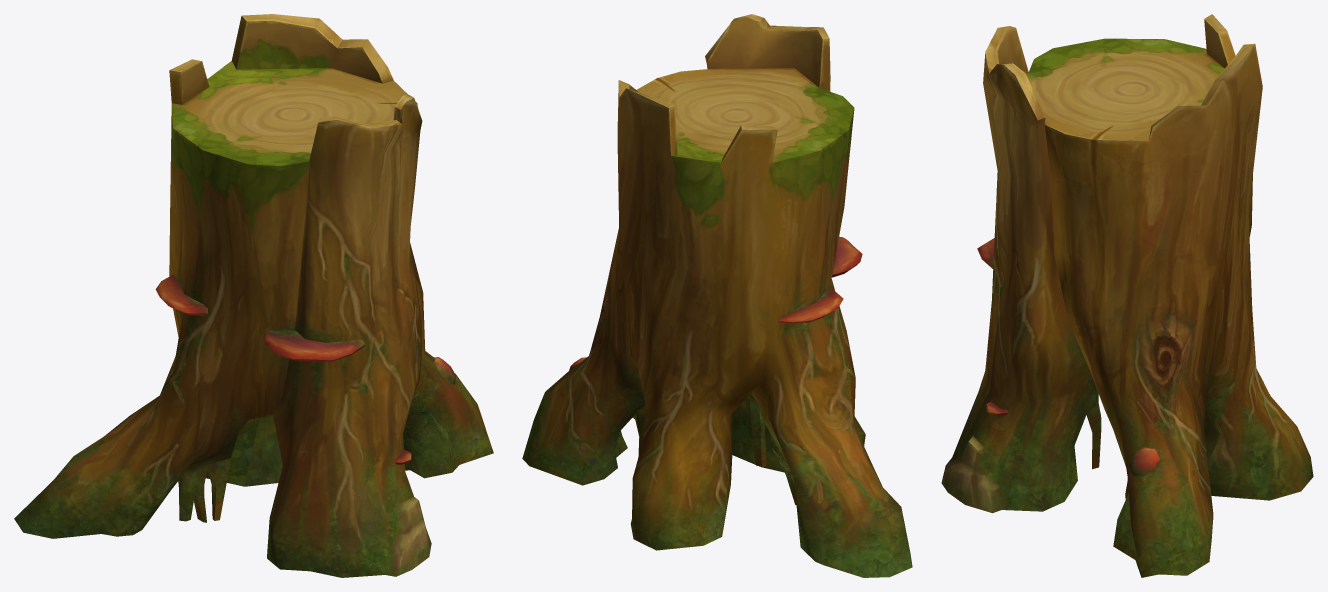
Rendered from Stage_CaoYuan_ShuZhuan01.FBX.
3 views of the same model, side by side, from view 1: azimuth 30°, elevation 25°; view 2: azimuth 150°, elevation 25°; view 3: azimuth 270°, elevation 25° (orthographic). The views are drawn at different scales.
Parts seen in each view (by area): view 1: Stage_CaoYuan_ShuZhuan01; view 2: Stage_CaoYuan_ShuZhuan01; view 3: Stage_CaoYuan_ShuZhuan01.
Boxes of the visible parts, left/top/right/bottom form: Stage_CaoYuan_ShuZhuan01: left=14, top=14, right=493, bottom=577; Stage_CaoYuan_ShuZhuan01: left=522, top=14, right=912, bottom=577; Stage_CaoYuan_ShuZhuan01: left=941, top=14, right=1313, bottom=577.
Bounding box in the file's own units: 775 × 762 × 577.
